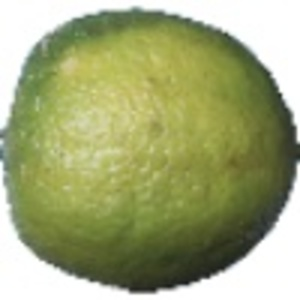limão: (1, 6, 300, 294)
